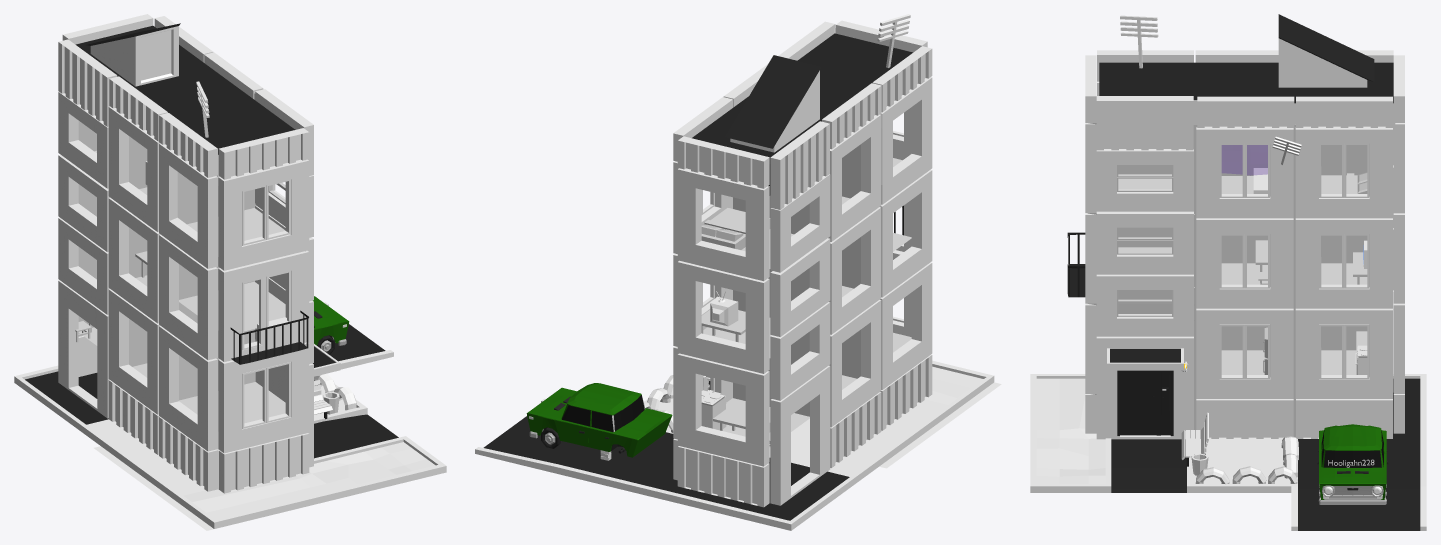
3 renders of one model, left to right at view 1: azimuth 30°, elevation 25°; view 2: azimuth 150°, elevation 25°; view 3: azimuth 270°, elevation 25°, orthographic. The views are drawn at different scales.
Parts seen in each view (by area): view 1: house_plates, Plane, House_box, Cube.002, Cube.011, Cube, Car, Cube.001, Torus, Plane.006; view 2: house_plates, Plane, House_box, Car, Cube.001, Cube, Cube.007, Cube.010, Cube.008, Torus, Plane.004; view 3: house_plates, Plane, House_box, Cube, Car, Cube.011, Cube.001, Door, Cube.002, Plane.005, Torus, Cube.012 (+2 smaller).
Part boxes in pixels (x1,y1,x2,y2): house_plates: (58,14,340,493); Plane: (14,302,446,530); House_box: (75,23,295,185); Cube.002: (177,172,285,431); Cube.011: (242,179,290,428); Cube: (129,136,147,377); Car: (313,296,349,354); Cube.001: (78,121,97,345); Torus: (314,374,356,414); Plane.006: (254,93,305,402); house_plates: (673,20,932,507); Plane: (475,360,1001,530); House_box: (692,14,912,195); Car: (526,383,672,460); Cube.001: (703,196,809,447); Cube: (842,144,860,389); Cube.007: (701,208,770,249); Cube.010: (701,390,726,430); Cube.008: (710,291,738,326); Torus: (643,375,708,432); Plane.004: (713,406,770,445); house_plates: (1067,50,1404,439); Plane: (1030,374,1426,530); House_box: (1099,14,1395,164); Cube: (1221,145,1267,374); Car: (1317,424,1388,504); Cube.011: (1219,143,1369,379); Cube.001: (1321,145,1367,374); Door: (1117,370,1173,436); Cube.002: (1118,165,1194,320); Plane.005: (1193,125,1369,438); Torus: (1191,436,1298,484); Cube.012: (1117,165,1173,316).
Size of the model in its own units: 2.53 by 2.99 by 2.74.
